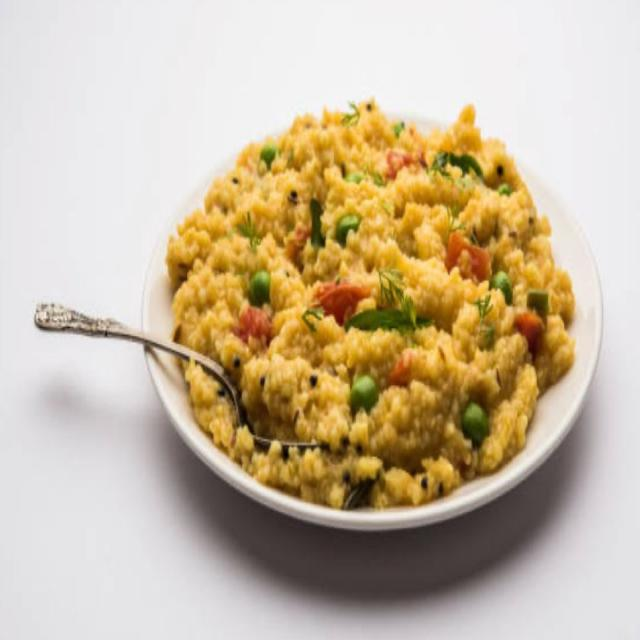SAMBAR RICE: (169, 96, 579, 511)
